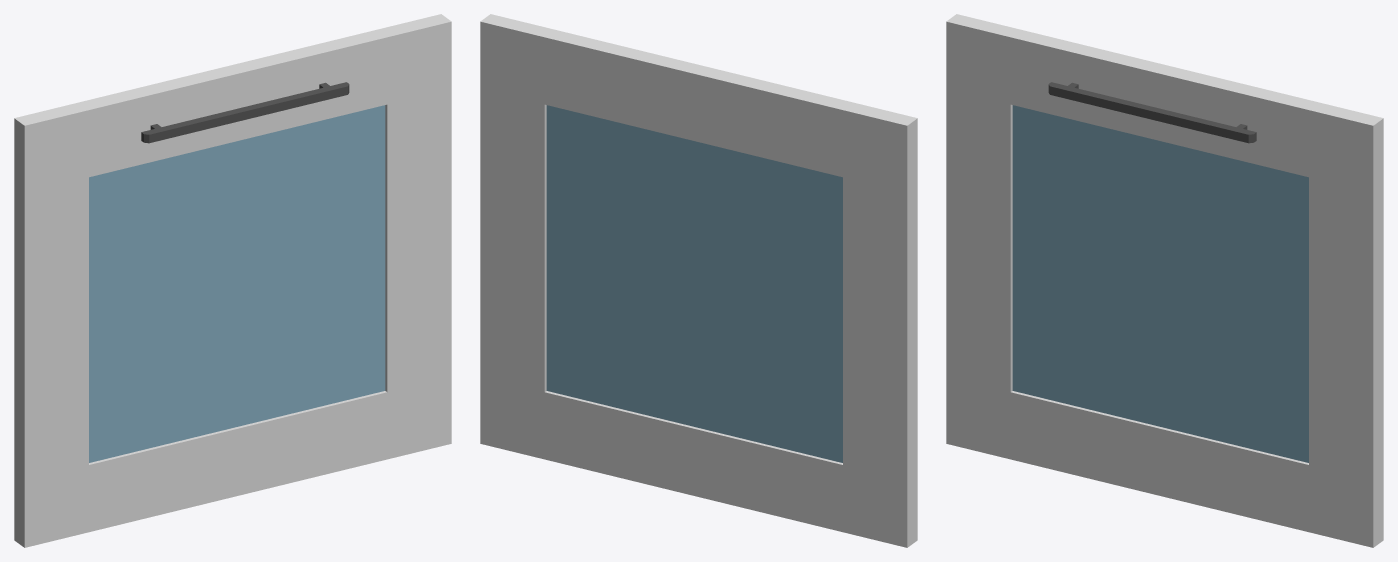
The model's file is Oven2_02.fbx.
3 views of the same model, side by side, from view 1: azimuth 30°, elevation 25°; view 2: azimuth 150°, elevation 25°; view 3: azimuth 330°, elevation 25° (orthographic).
Visible parts, largest first — view 1: Oven2_02; view 2: Oven2_02; view 3: Oven2_02.
Part boxes in pixels (box(x1,y1,x2,y2)): Oven2_02: box(14, 14, 451, 547); Oven2_02: box(480, 14, 917, 547); Oven2_02: box(946, 14, 1383, 547).
Size of the model in its own units: 59.2 by 55.91 by 5.01.
